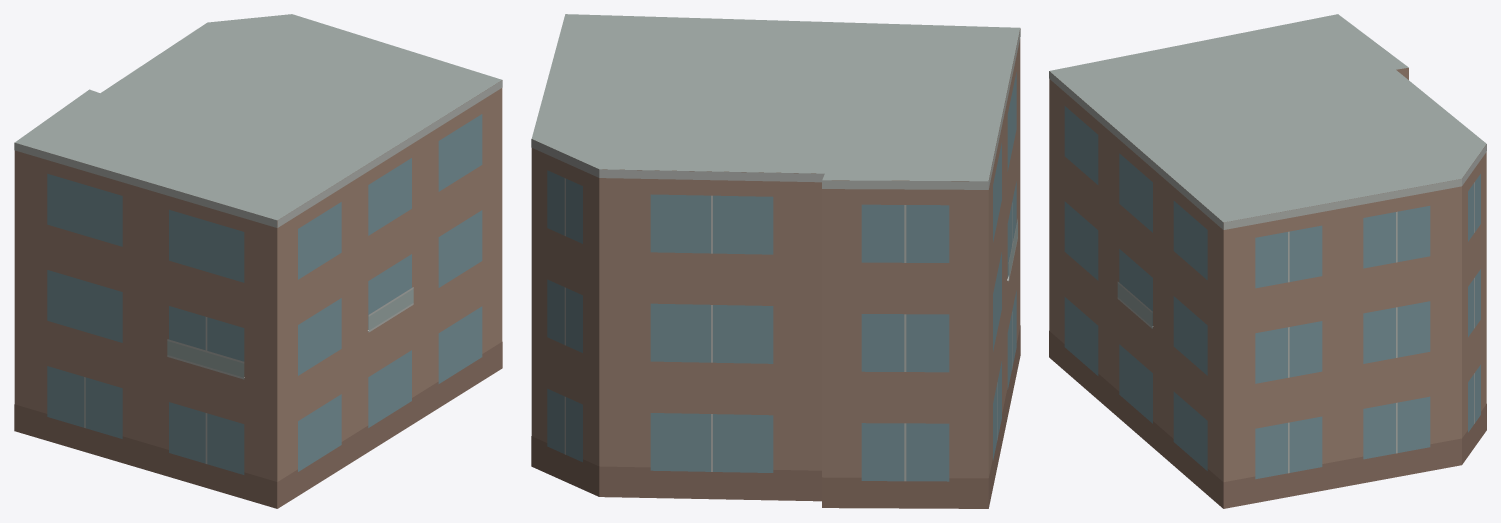
The model's file is survey-upis-33045643.glb.
The picture shows the model from 3 angles, left to right: view 1: azimuth 30°, elevation 25°; view 2: azimuth 150°, elevation 25°; view 3: azimuth 270°, elevation 25°; orthographic projection. The views are drawn at different scales.
Parts seen in each view (by area): view 1: survey-upis-33045643.tmp; view 2: survey-upis-33045643.tmp; view 3: survey-upis-33045643.tmp.
Part boxes in pixels (<box>): survey-upis-33045643.tmp: <box>14,14,502,508</box>; survey-upis-33045643.tmp: <box>531,14,1020,508</box>; survey-upis-33045643.tmp: <box>1049,14,1486,508</box>.
Size of the model in its own units: 14.29 by 9.15 by 12.68.
